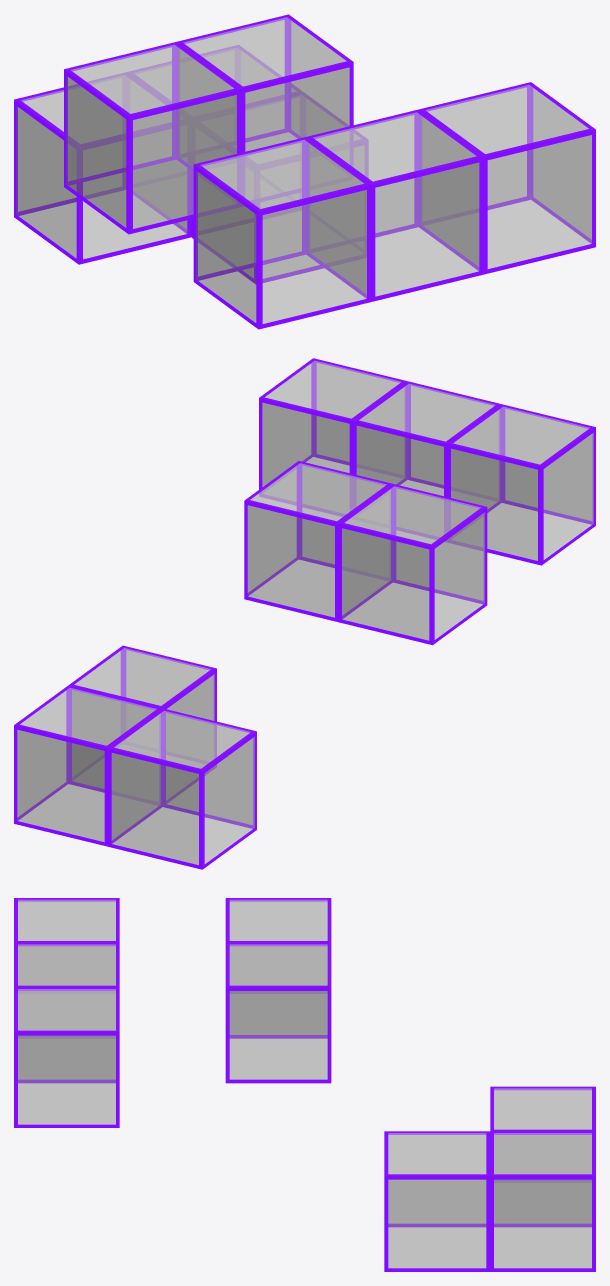
The model's file is (6)H XWall.fbx.
3 views of the same model, one above another, from view 1: azimuth 30°, elevation 25°; view 2: azimuth 150°, elevation 25°; view 3: azimuth 270°, elevation 25° (orthographic). The views are drawn at different scales.
Parts seen in each view (by area): view 1: Wall.002, Wall.006, Wall.004, Wall.005, Wall.010, Wall.007, Wall.009, Wall.008; view 2: Wall.006, Wall.010, Wall.008, Wall.002, Wall.007, Wall.005, Wall.004, Wall.009; view 3: Wall.007, Wall.009, Wall.005, Wall.008, Wall.006, Wall.004, Wall.010, Wall.002.
Part boxes in pixels (x1,y1,x2,y2): Wall.002: (193, 137, 370, 329); Wall.006: (64, 42, 241, 234); Wall.004: (306, 109, 483, 301); Wall.005: (418, 82, 595, 274); Wall.010: (14, 73, 191, 264); Wall.007: (176, 14, 353, 206); Wall.009: (191, 93, 367, 284); Wall.008: (127, 45, 302, 233); Wall.006: (338, 484, 487, 645); Wall.010: (108, 708, 256, 869); Wall.008: (14, 685, 162, 846); Wall.002: (447, 404, 595, 565); Wall.007: (244, 461, 392, 622); Wall.005: (259, 358, 407, 516); Wall.004: (353, 381, 501, 541); Wall.009: (68, 645, 216, 803); Wall.007: (225, 942, 331, 1083); Wall.009: (384, 1131, 490, 1271); Wall.005: (14, 987, 119, 1127); Wall.008: (490, 1131, 595, 1271); Wall.006: (225, 898, 331, 1038); Wall.004: (14, 942, 119, 1082); Wall.010: (490, 1086, 595, 1182); Wall.002: (14, 898, 119, 985).
Size of the model in its own units: 600 by 500 by 1100.
